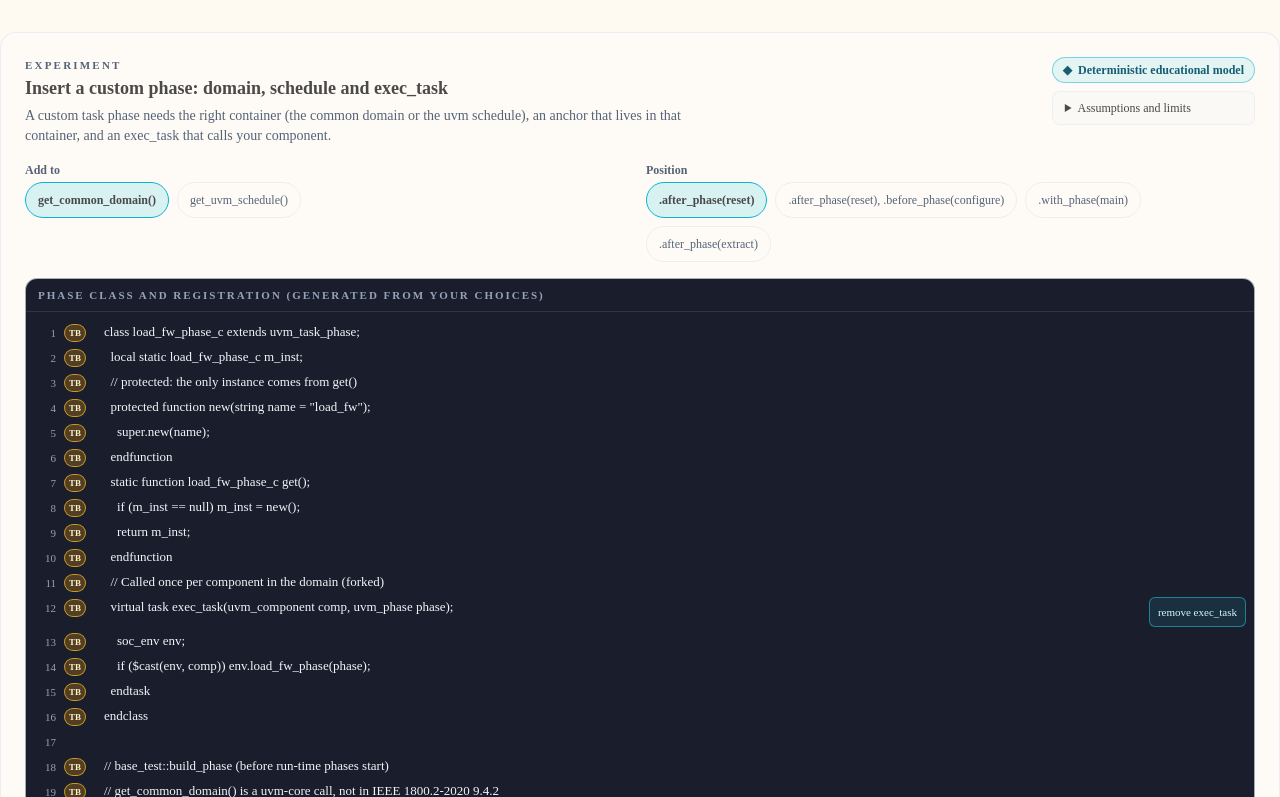
it: MethodologyPhaseVisualizer › the uvm schedule accepts the reset anchor and splices load_fw in serially
This screenshot has width=1280, height=797.
Click the radio button labelled "get_uvm_schedule()" at (239, 200), box [177,182,301,218]
(page scrolled)
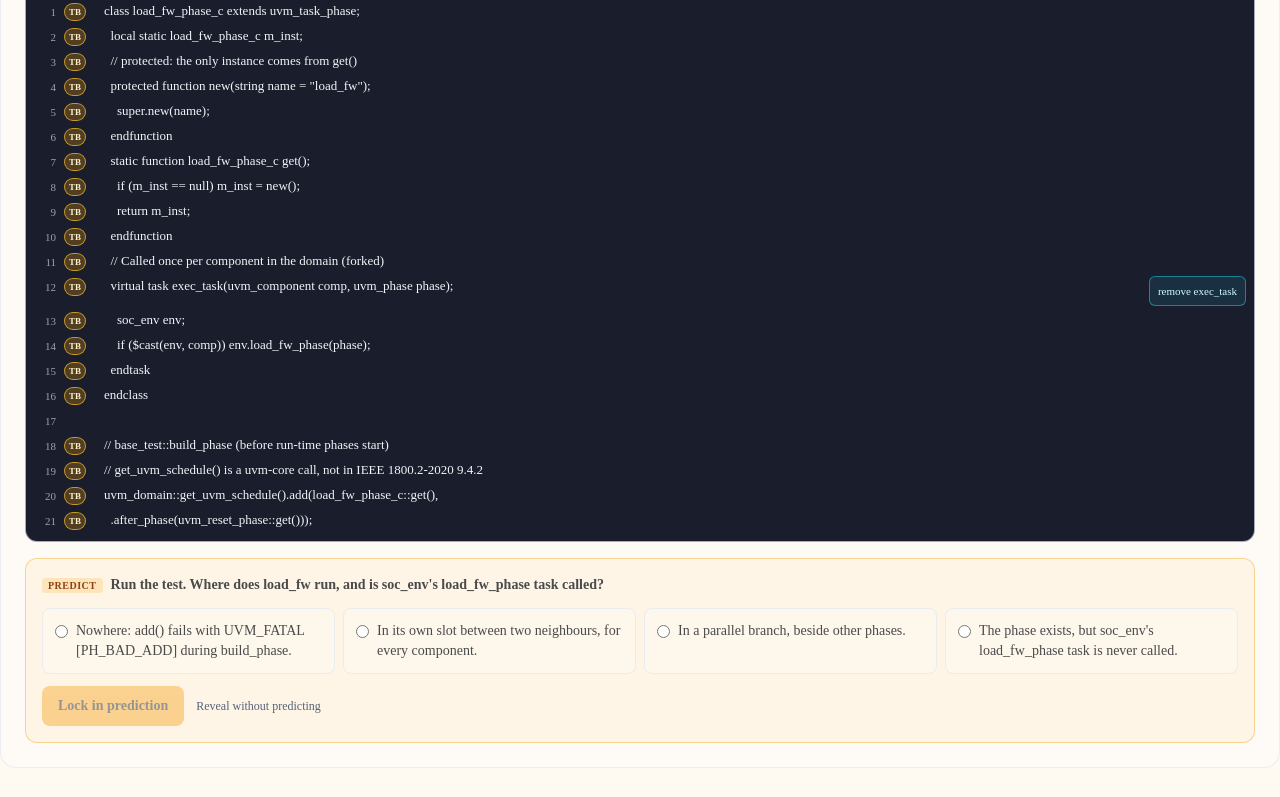
expect the text "uvm_domain::get_uvm_schedule().add(load_fw_phase_c::get()," is shown: met, box [104,487,438,502]
Click the radio button labelled "In its own slot between two neighbours, for every component." at (362, 632), box [356,625,369,638]
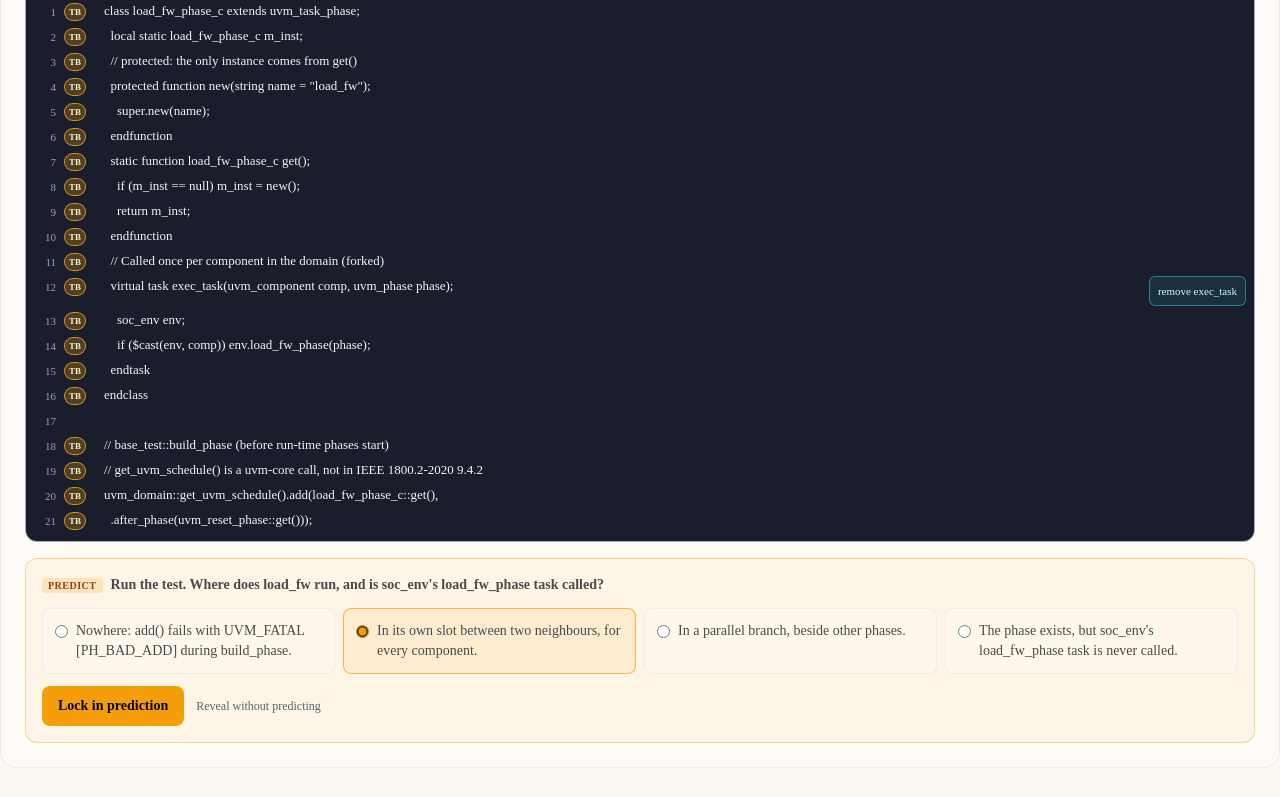
Click the button "Lock in prediction" at (113, 706), box [42,686,184,726]
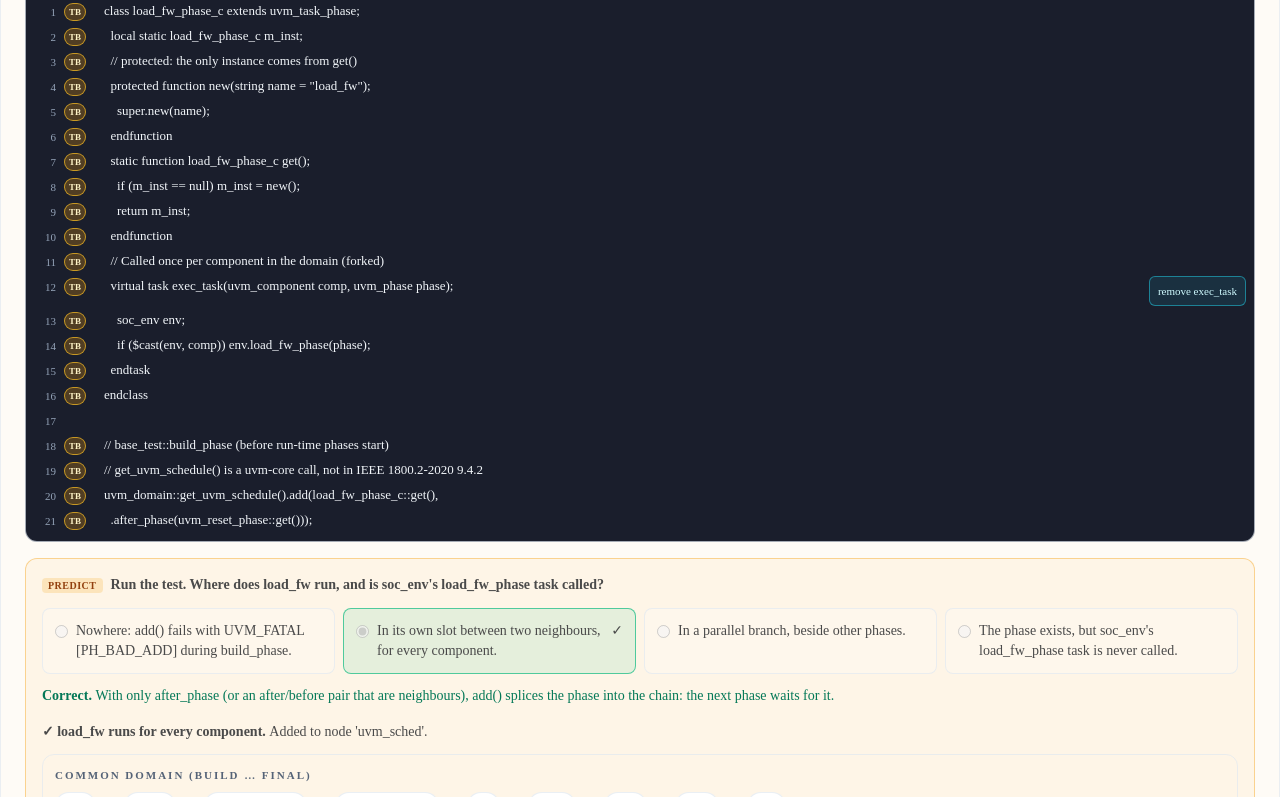
expect the text "Correct." is shown: met, box [42,688,95,703]
